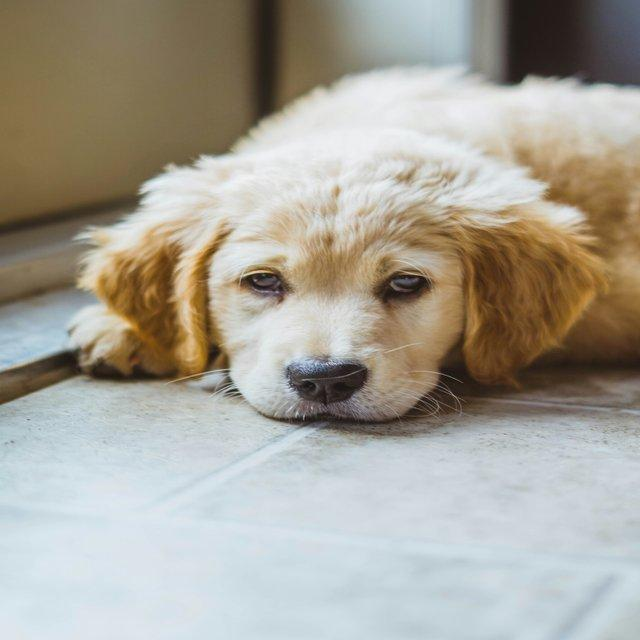retriever: (64, 61, 638, 425)
